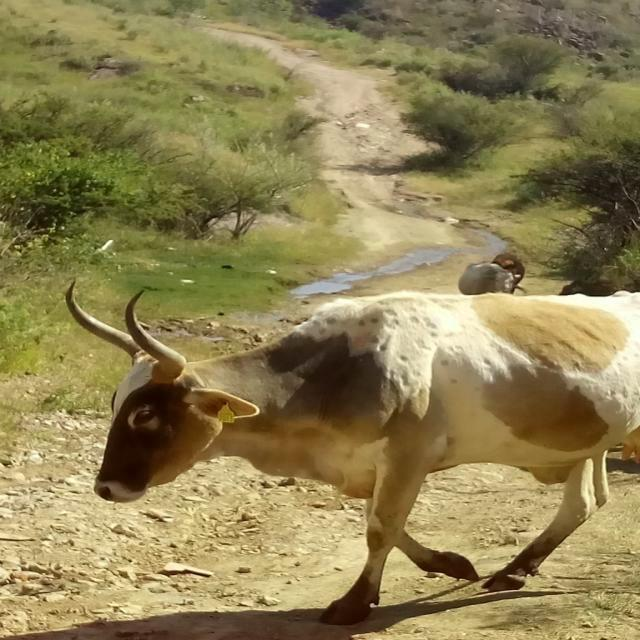cow: (66, 286, 640, 624)
